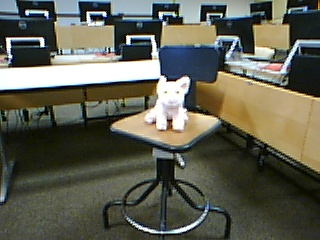piggy: (144, 74, 190, 132)
